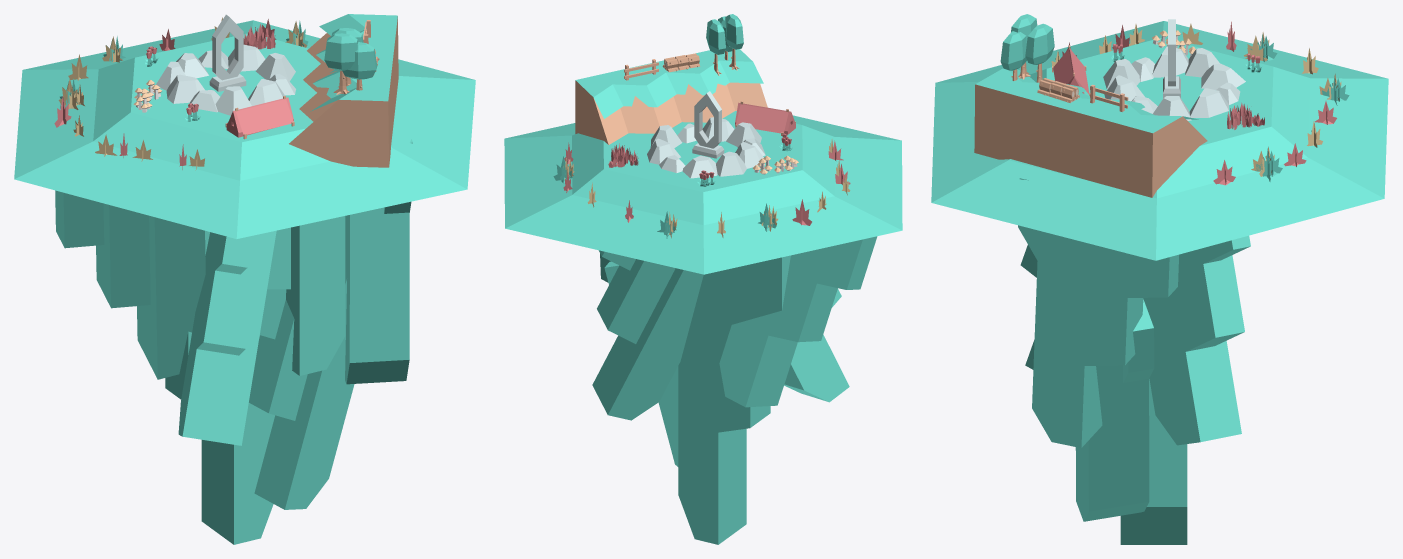
Rendered from ile_up.fbx.
3 renders of one model, left to right at view 1: azimuth 30°, elevation 25°; view 2: azimuth 150°, elevation 25°; view 3: azimuth 270°, elevation 25°, orthographic. The views are drawn at different scales.
Parts seen in each view (by area): view 1: crops_dirtSingle, hanging_moss__11_, hanging_moss__12_, hanging_moss__9_, hanging_moss__8_, cliff_half_rock, hanging_moss__7_, hanging_moss__1_, campfire_stones, tent_detailedClosed, statue_ring, tree_oak (+1 smaller); view 2: crops_dirtSingle, hanging_moss__1_, hanging_moss__10_, hanging_moss__11_, cliff_half_rock, campfire_stones, hanging_moss__12_, hanging_moss__9_, statue_ring, tent_detailedClosed, tree_oak__2_, tree_oak; view 3: crops_dirtSingle, hanging_moss__8_, cliff_half_rock, hanging_moss__10_, hanging_moss__9_, hanging_moss__1_, campfire_stones, tree_oak__2_, tent_detailedClosed, tree_oak__1_, statue_ring.
Part boxes in pixels (x1,y1,x2,y2): crops_dirtSingle: (14, 20, 475, 238); hanging_moss__11_: (55, 190, 205, 379); hanging_moss__12_: (178, 230, 276, 445); hanging_moss__9_: (249, 249, 354, 509); hanging_moss__8_: (345, 139, 412, 384); cliff_half_rock: (289, 14, 398, 167); hanging_moss__7_: (267, 216, 345, 375); hanging_moss__1_: (165, 230, 274, 544); campfire_stones: (156, 44, 295, 115); tent_detailedClosed: (225, 95, 294, 139); statue_ring: (209, 14, 246, 91); tree_oak: (324, 33, 357, 94); crops_dirtSingle: (504, 111, 902, 274); hanging_moss__1_: (678, 255, 790, 544); hanging_moss__10_: (592, 250, 703, 420); hanging_moss__11_: (719, 236, 877, 407); cliff_half_rock: (575, 49, 767, 144); campfire_stones: (647, 117, 765, 178); hanging_moss__12_: (784, 289, 849, 402); hanging_moss__9_: (604, 261, 678, 466); statue_ring: (692, 91, 724, 158); tent_detailedClosed: (735, 101, 795, 135); tree_oak__2_: (706, 19, 725, 75); tree_oak: (725, 14, 743, 70); crops_dirtSingle: (931, 21, 1388, 260); hanging_moss__8_: (1018, 177, 1178, 447); cliff_half_rock: (974, 68, 1207, 197); hanging_moss__10_: (1143, 235, 1250, 445); hanging_moss__9_: (1075, 299, 1154, 521); hanging_moss__1_: (1120, 379, 1187, 544); campfire_stones: (1103, 46, 1245, 120); tree_oak__2_: (1025, 23, 1054, 82); tent_detailedClosed: (1052, 45, 1090, 95); tree_oak__1_: (1000, 31, 1026, 80); statue_ring: (1163, 19, 1180, 98).
Size of the model in its own units: 2500 by 2762 by 2100.
